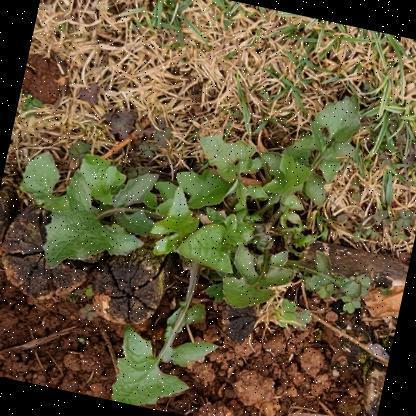Weeds: (0, 26, 415, 415)
